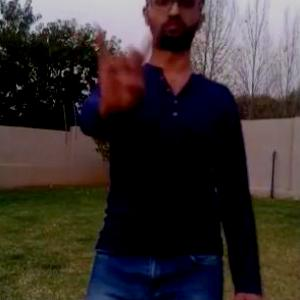takeoff-hand: (89, 12, 163, 118)
